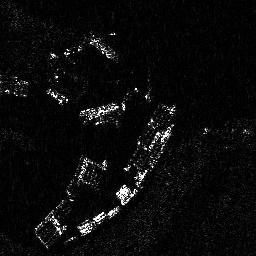ship: (82, 34, 121, 61)
